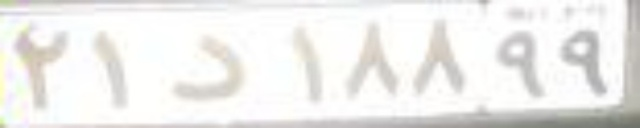1: (88, 28, 130, 109), (289, 26, 326, 99)
2: (11, 28, 71, 112)
8: (411, 17, 466, 97), (343, 20, 399, 98)
9: (555, 28, 606, 95), (493, 32, 544, 97)
sin: (164, 33, 251, 101)
